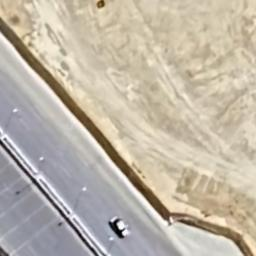sedan: (106, 216, 133, 240)
